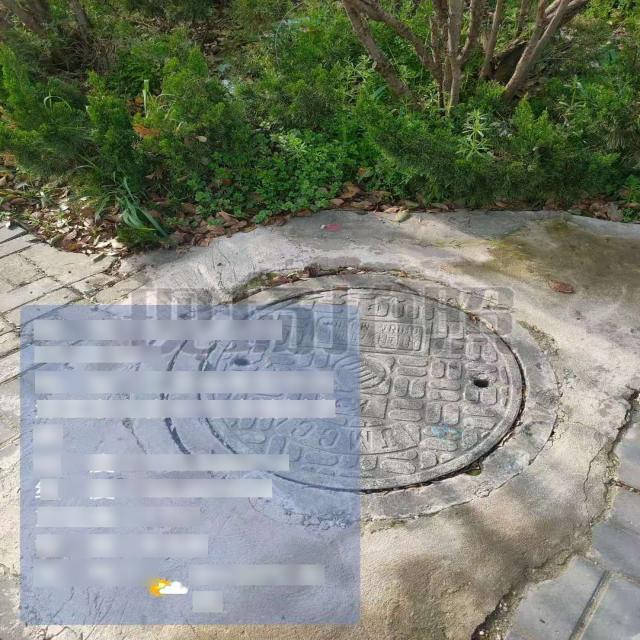Good: (164, 274, 560, 522)
